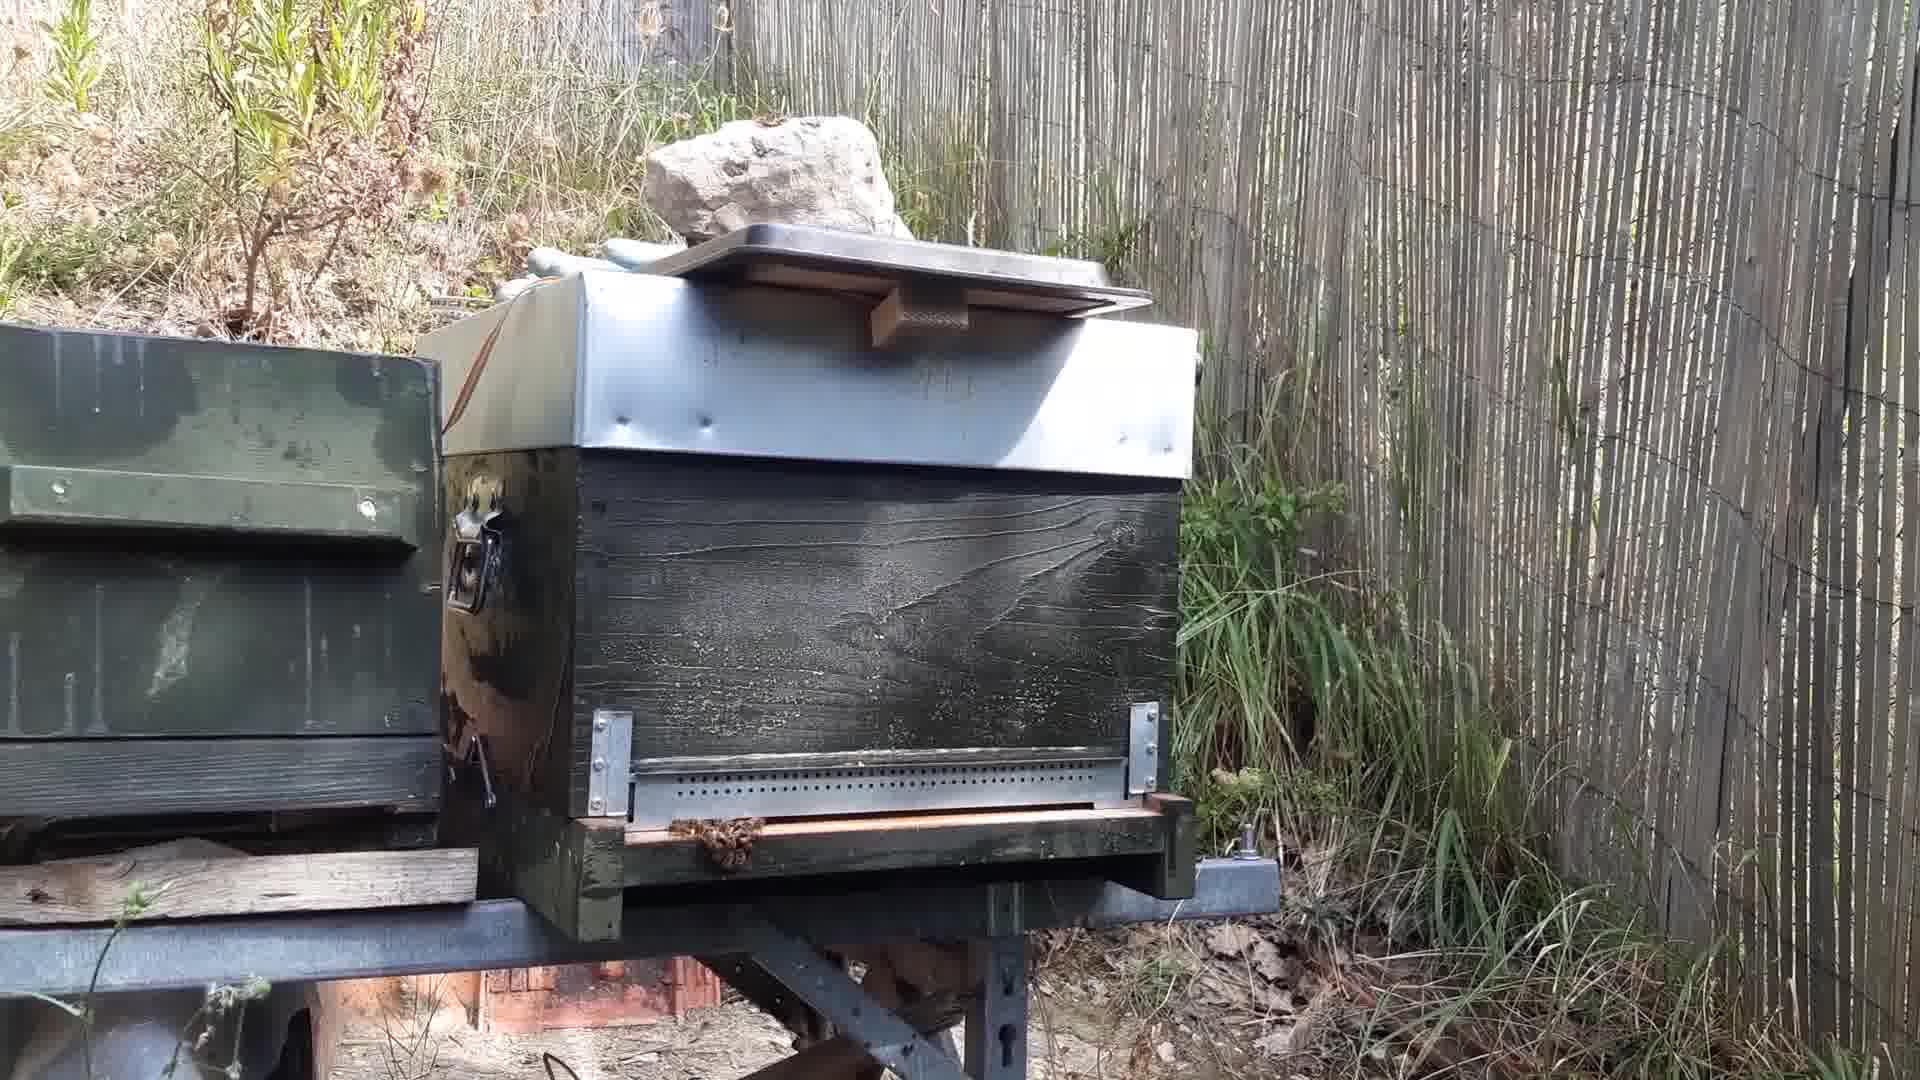bee: (673, 812, 764, 868)
